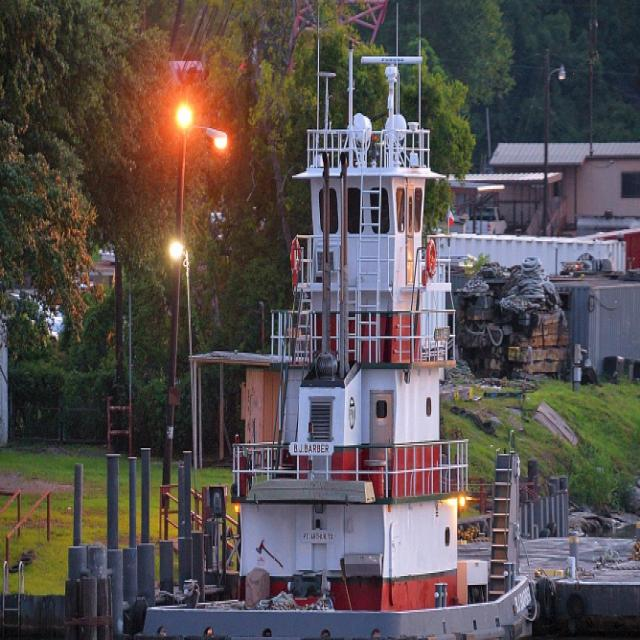tugboat: (111, 38, 542, 640)
